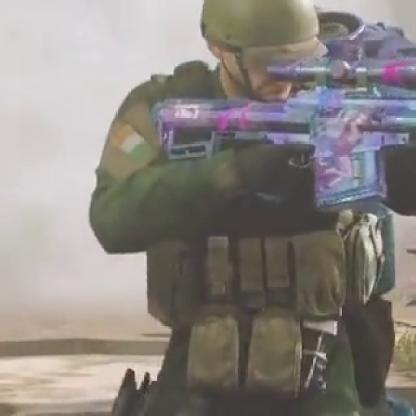enemy: (82, 0, 411, 410)
